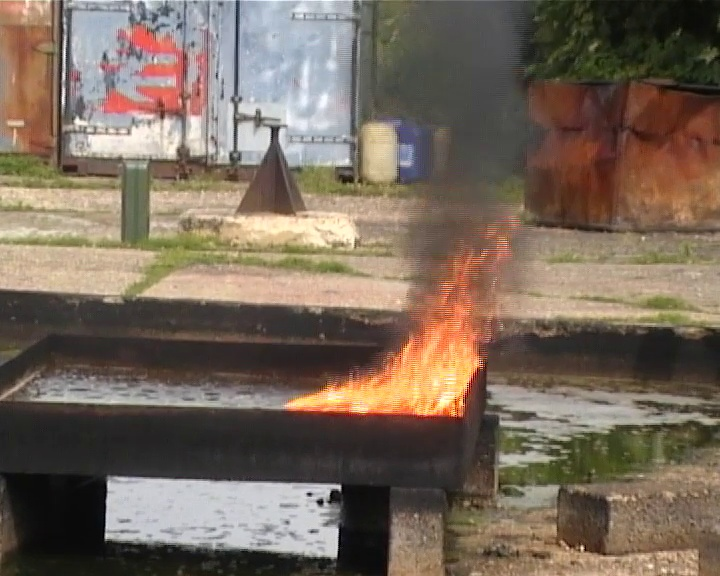fire: (289, 246, 503, 414)
